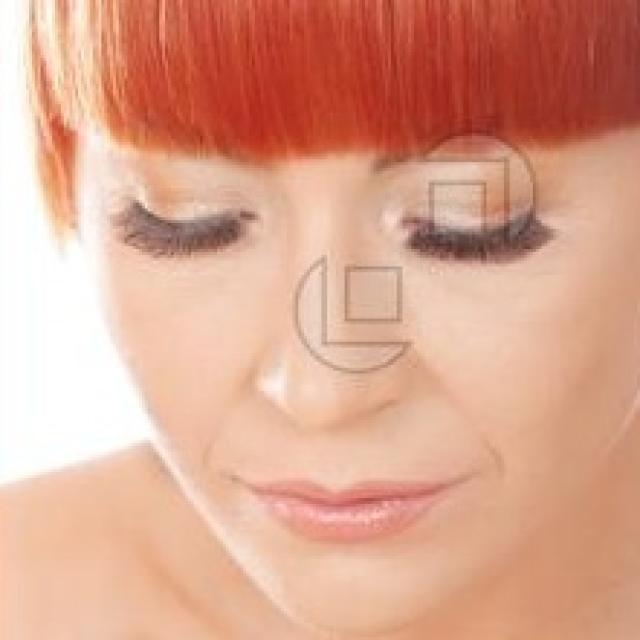Eyeclosed: (118, 184, 247, 272), (397, 204, 560, 273)
